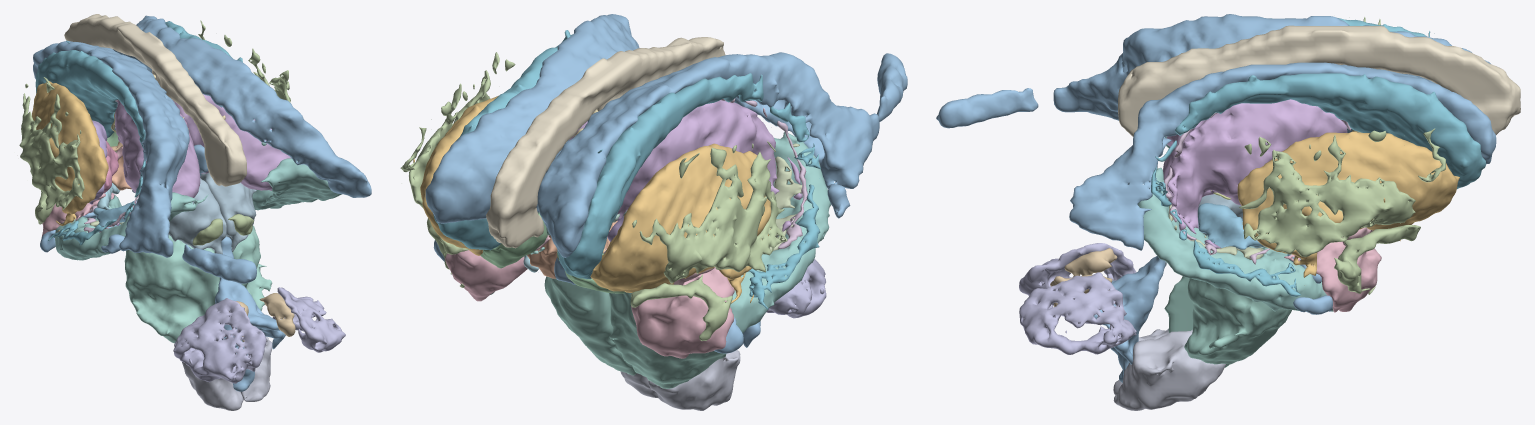
File: learning.glb
3 renders of one model, left to right at view 1: azimuth 30°, elevation 25°; view 2: azimuth 150°, elevation 25°; view 3: azimuth 270°, elevation 25°, orthographic. The views are drawn at different scales.
Visible parts, largest first — view 1: learning:ventricles-left, learning:ventricles-right, learning:corpus-callosum, learning:left:pons, learning:left:dentate, learning:left:caudate, learning:left:putamen, learning:left:claustrum, learning:right:hippocampus, learning:left:thalamus, learning:right:thalamus, learning:left:hippocampus (+16 smaller); view 2: learning:ventricles-left, learning:corpus-callosum, learning:ventricles-right, learning:left:caudate, learning:left:claustrum, learning:left:putamen, learning:left:thalamus, learning:left:amygdala, learning:left:hippocampus, learning:left:pons, learning:right:pons, learning:right:claustrum (+10 smaller); view 3: learning:corpus-callosum, learning:right:caudate, learning:ventricles-right, learning:right:claustrum, learning:right:thalamus, learning:ventricles-left, learning:right:putamen, learning:right:hippocampus, learning:right:dentate, learning:right:pons, learning:right:medulla, learning:fourth-ventricle (+6 smaller).
Part boxes in pixels (x1=…): learning:ventricles-left: x1=33, y1=41, x2=256, y2=283; learning:ventricles-right: x1=112, y1=15, x2=371, y2=197; learning:corpus-callosum: x1=64, y1=14, x2=246, y2=186; learning:left:pons: x1=124, y1=235, x2=219, y2=343; learning:left:dentate: x1=173, y1=298, x2=266, y2=383; learning:left:caudate: x1=35, y1=40, x2=145, y2=245; learning:left:putamen: x1=32, y1=81, x2=108, y2=232; learning:left:claustrum: x1=19, y1=77, x2=84, y2=224; learning:right:hippocampus: x1=252, y1=142, x2=341, y2=210; learning:left:thalamus: x1=107, y1=100, x2=200, y2=228; learning:right:thalamus: x1=173, y1=94, x2=290, y2=190; learning:left:hippocampus: x1=55, y1=192, x2=208, y2=260; learning:ventricles-left: x1=537, y1=52, x2=907, y2=353; learning:corpus-callosum: x1=486, y1=37, x2=725, y2=248; learning:ventricles-right: x1=425, y1=14, x2=639, y2=261; learning:left:caudate: x1=557, y1=73, x2=820, y2=309; learning:left:claustrum: x1=630, y1=141, x2=787, y2=340; learning:left:putamen: x1=590, y1=143, x2=771, y2=303; learning:left:thalamus: x1=617, y1=100, x2=802, y2=231; learning:left:amygdala: x1=631, y1=267, x2=734, y2=358; learning:left:hippocampus: x1=730, y1=131, x2=830, y2=333; learning:left:pons: x1=609, y1=292, x2=726, y2=388; learning:right:pons: x1=544, y1=276, x2=636, y2=375; learning:right:claustrum: x1=400, y1=52, x2=515, y2=287; learning:corpus-callosum: x1=1118, y1=25, x2=1520, y2=136; learning:right:caudate: x1=1151, y1=73, x2=1485, y2=296; learning:ventricles-right: x1=1069, y1=62, x2=1496, y2=314; learning:right:claustrum: x1=1239, y1=128, x2=1445, y2=294; learning:right:thalamus: x1=1163, y1=99, x2=1347, y2=252; learning:ventricles-left: x1=936, y1=14, x2=1490, y2=128; learning:right:putamen: x1=1237, y1=131, x2=1459, y2=277; learning:right:hippocampus: x1=1138, y1=136, x2=1333, y2=311; learning:right:dentate: x1=1019, y1=272, x2=1136, y2=354; learning:right:pons: x1=1184, y1=246, x2=1291, y2=367; learning:right:medulla: x1=1113, y1=329, x2=1226, y2=410; learning:fourth-ventricle: x1=1094, y1=256, x2=1166, y2=382.
Size of the model in its own units: 0.0708 by 0.082 by 0.1176.
